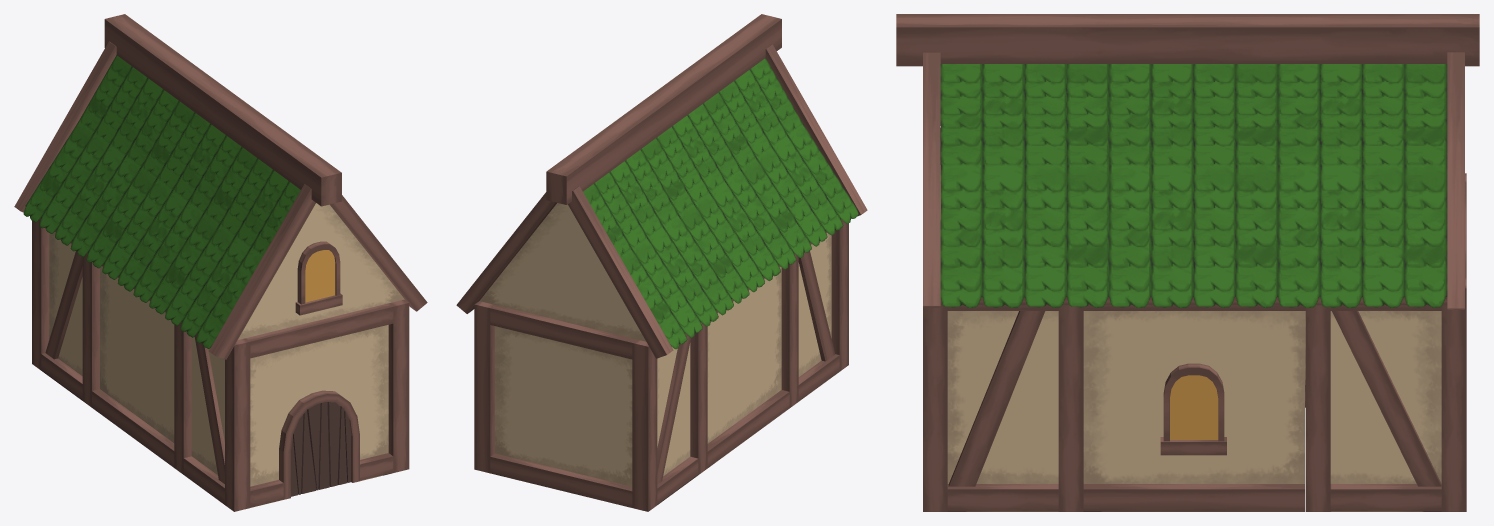
File: Medieval House Design_02.fbx
3 views of the same model, side by side, from view 1: azimuth 30°, elevation 25°; view 2: azimuth 150°, elevation 25°; view 3: azimuth 270°, elevation 25° (orthographic). The views are drawn at different scales.
Visible parts, largest first — view 1: Cube.178; view 2: Cube.178; view 3: Cube.178.
Boxes of the visible parts, <box> form: Cube.178: <box>14,14,427,511</box>; Cube.178: <box>456,14,867,511</box>; Cube.178: <box>896,14,1479,511</box>.
Size of the model in its own units: 298 by 431 by 526.
Materials: 1 (1 with a texture image).
